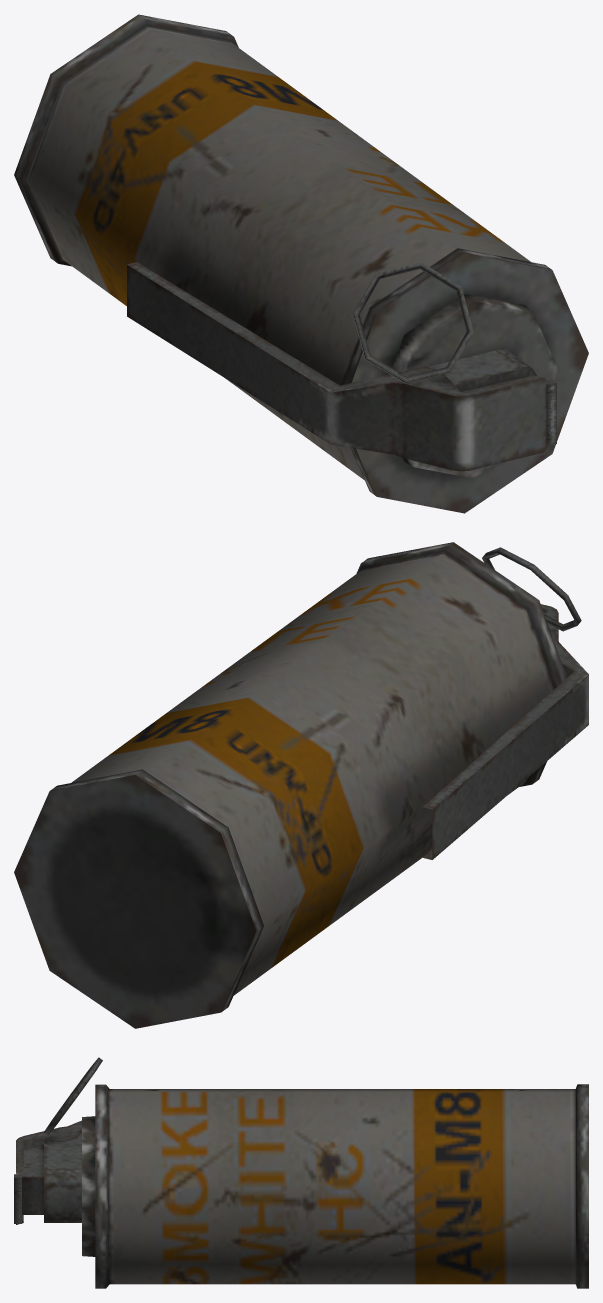
File: weapon_usa_smoke_grenade_lod10.obj
3 renders of one model, top to bottom at view 1: azimuth 30°, elevation 25°; view 2: azimuth 150°, elevation 25°; view 3: azimuth 270°, elevation 25°, orthographic. The views are drawn at different scales.
Parts seen in each view (by area): view 1: TomGroup_0; view 2: TomGroup_0; view 3: TomGroup_0.
Boxes of the visible parts, x1,y1,x2,y2 form: TomGroup_0: [14, 14, 588, 513]; TomGroup_0: [14, 542, 588, 1028]; TomGroup_0: [14, 1057, 588, 1288].
Bounding box in the file's own units: 6.2 × 5.54 × 14.45.
Materials: 1 (1 with a texture image).
